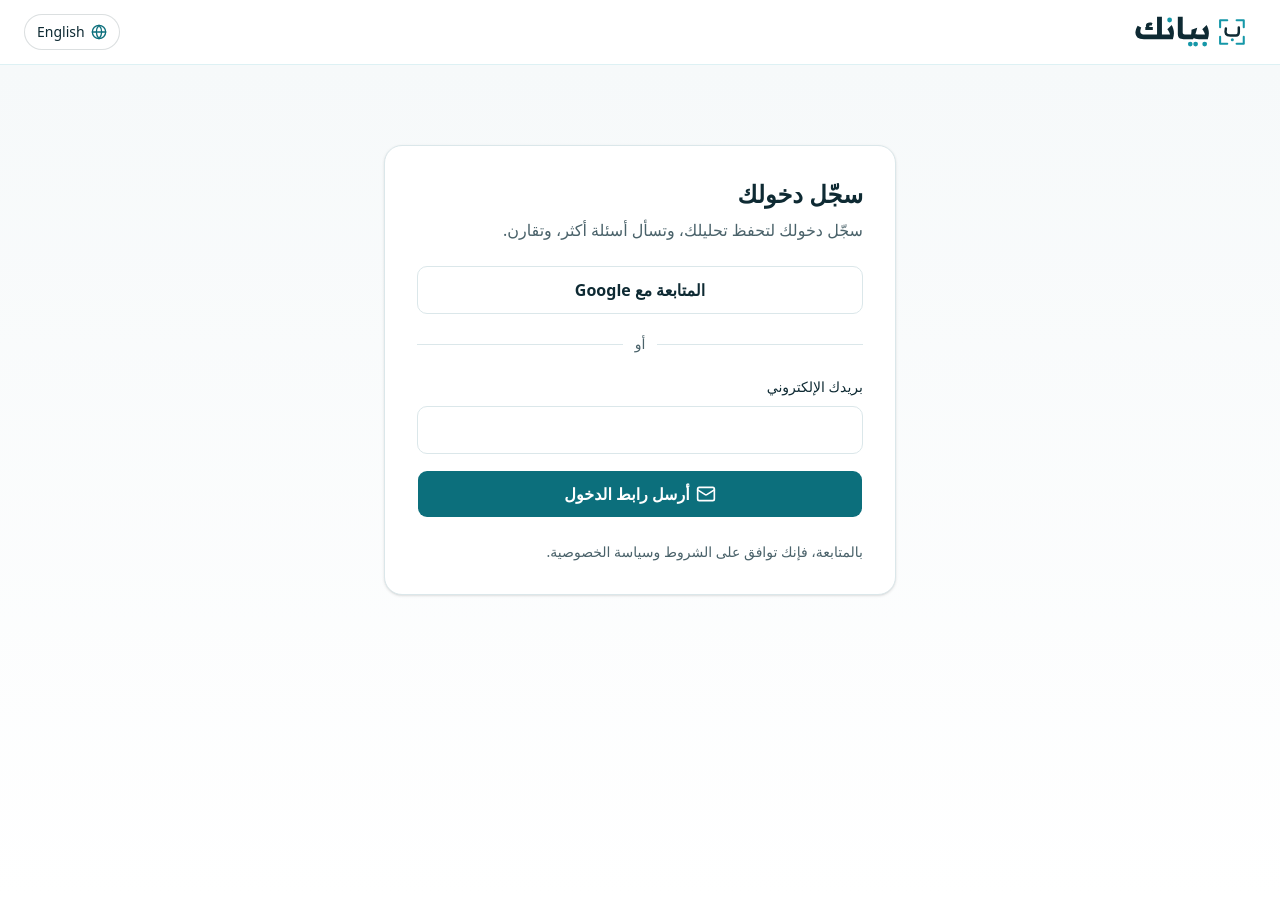
Scenario: shows the field message when the API refuses the email (validation_error)
Type "sara@example.com" into the field labelled "بريدك الإلكتروني". click: point(640, 430)
box: [417,406,863,454]
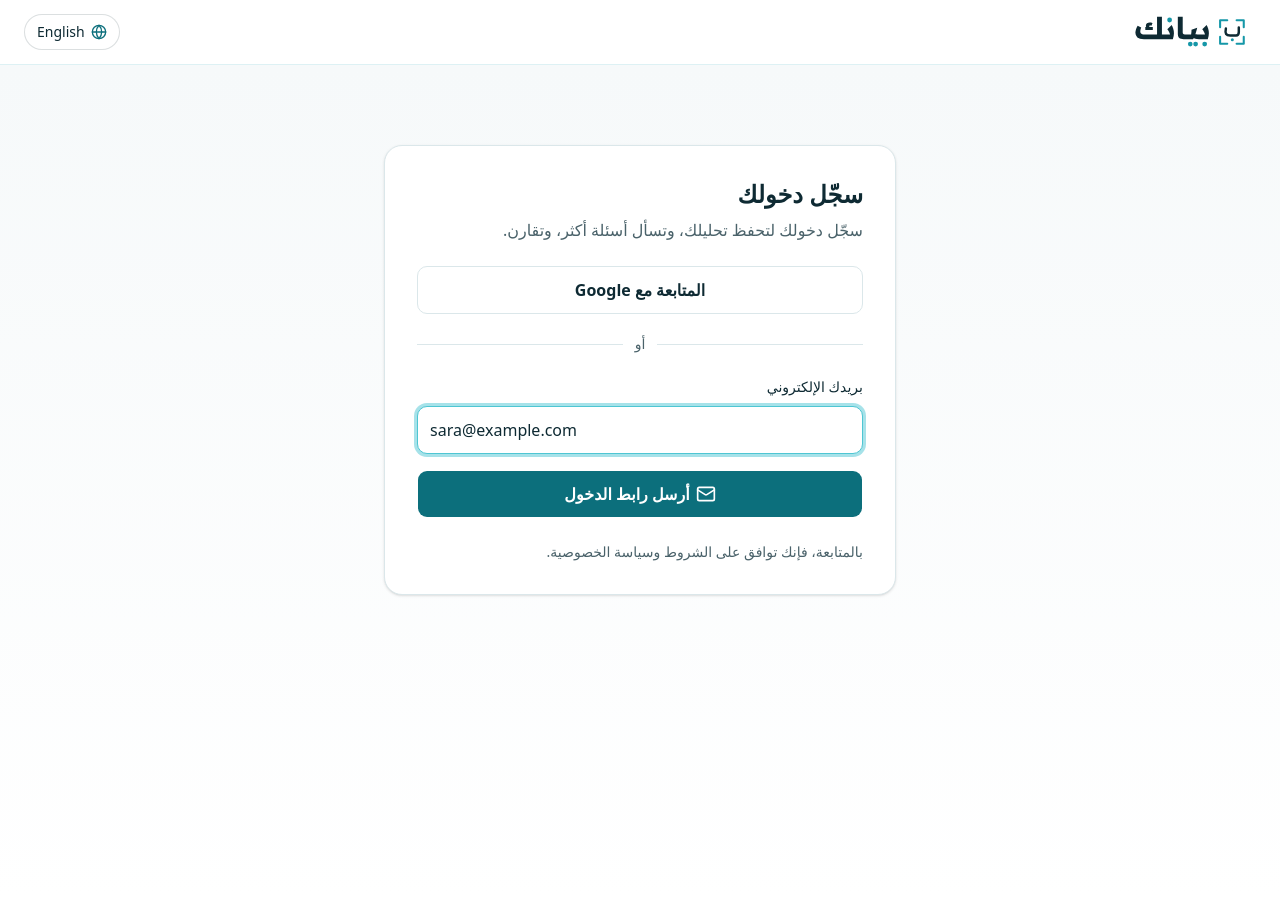
Click the button "أرسل رابط الدخول". click: point(640, 494)
box: [417,470,863,518]
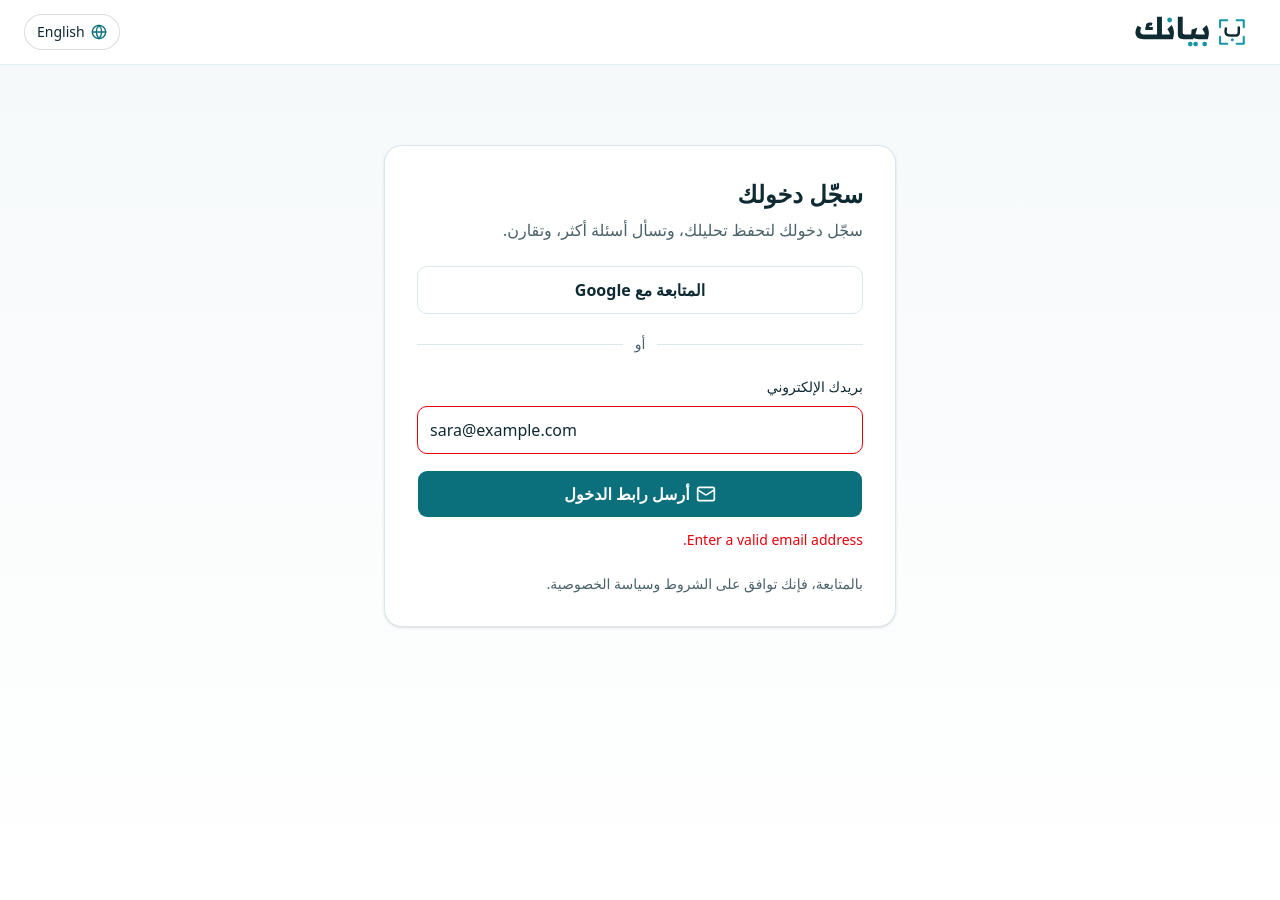
Now the message reads "Enter a valid email address.", box [683,530,863,549]
